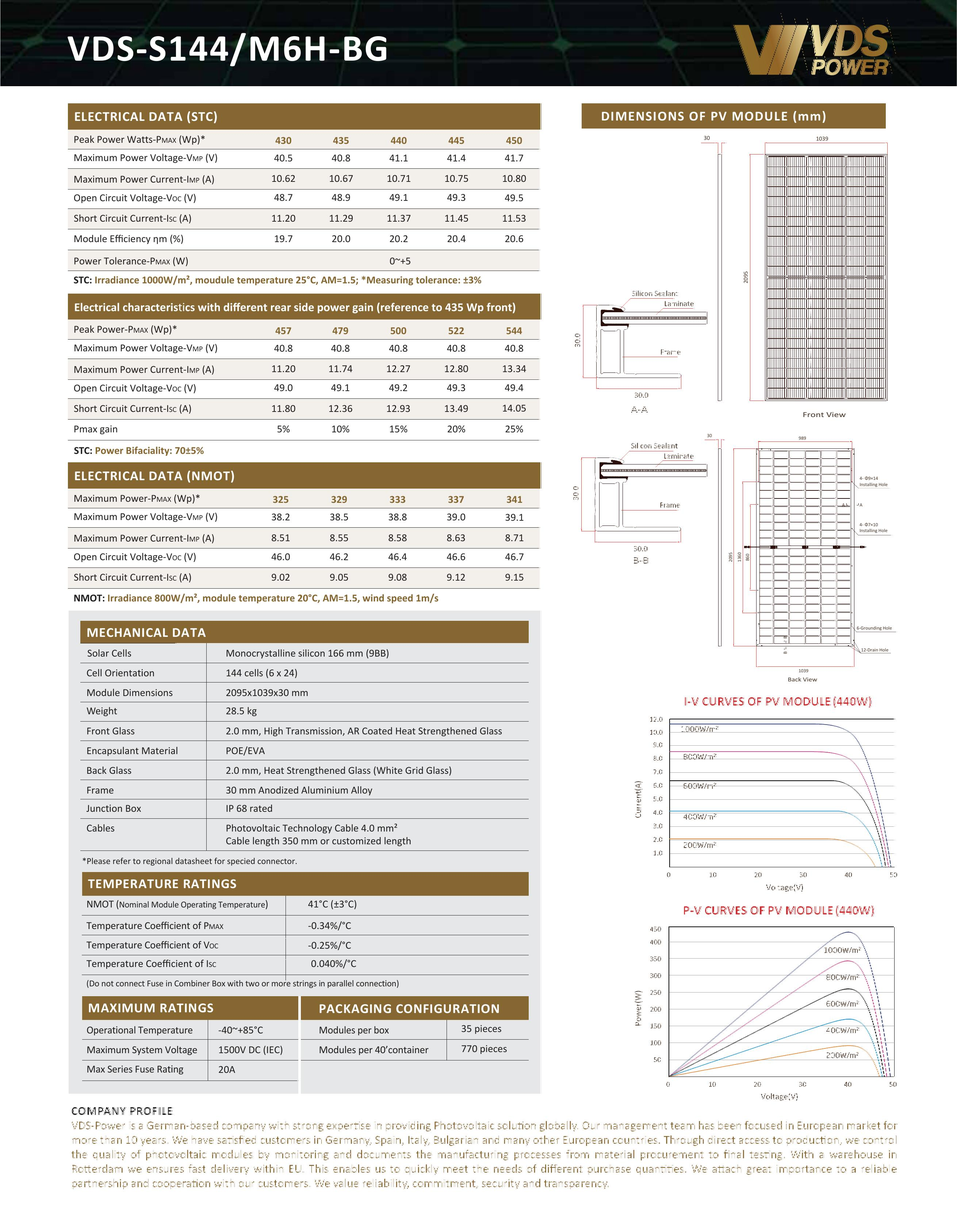table: (73, 613, 541, 864), (60, 97, 551, 285), (64, 287, 548, 456), (64, 463, 544, 605), (73, 865, 536, 992), (76, 996, 302, 1087), (302, 999, 543, 1065)
